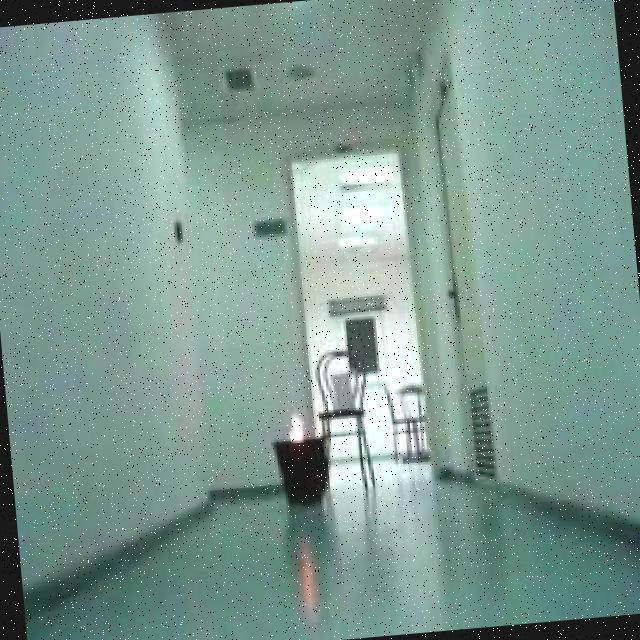Fire: (281, 412, 308, 445)
